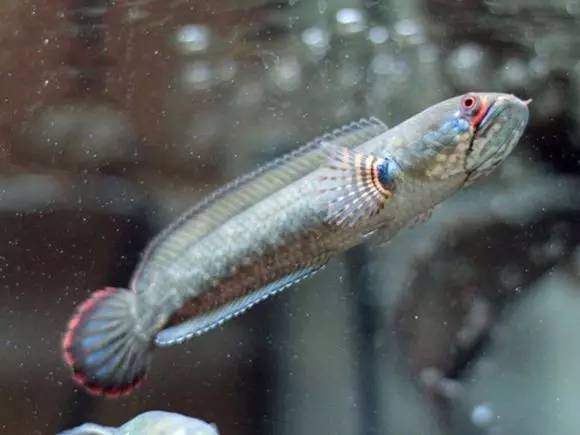Fish: (49, 72, 545, 398)
